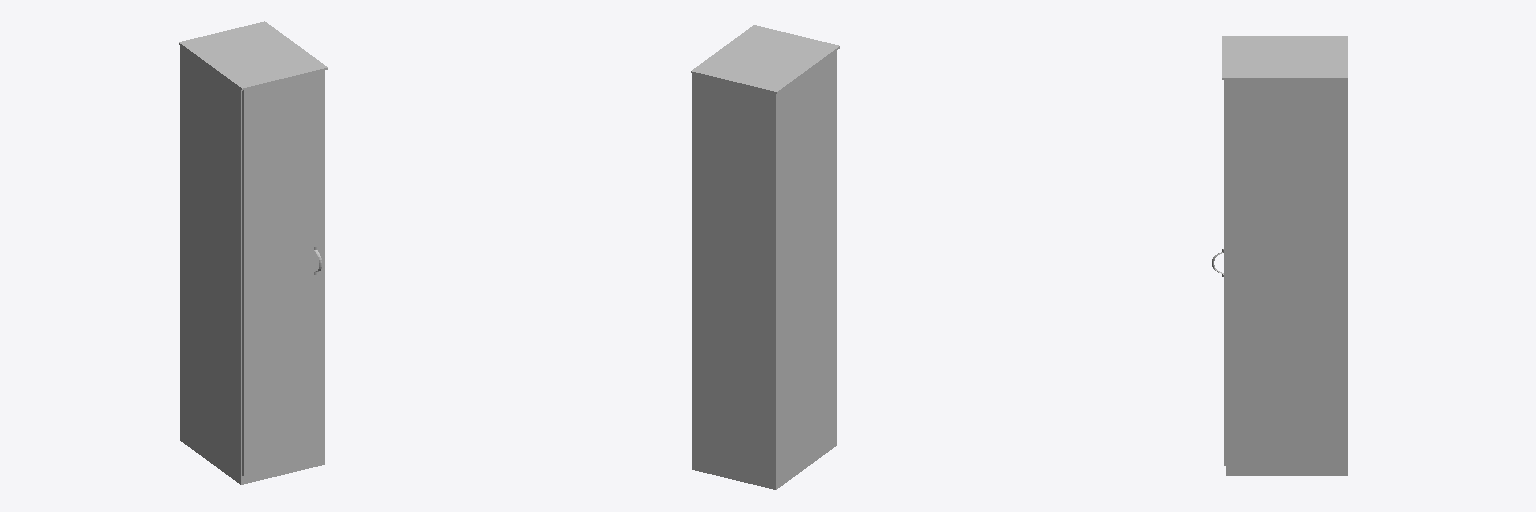
Rendered from closet.obj.
3 renders of one model, left to right at view 1: azimuth 30°, elevation 25°; view 2: azimuth 150°, elevation 25°; view 3: azimuth 270°, elevation 25°, orthographic.
Visible parts, largest first — view 1: initialShadingGroup closet door, initialShadingGroup closet main, initialShadingGroup closet closetTop; view 2: initialShadingGroup closet main, initialShadingGroup closet closetTop; view 3: initialShadingGroup closet main, initialShadingGroup closet closetTop, initialShadingGroup closet door.
Part boxes in pixels (left/top/right/bottom): initialShadingGroup closet door: left=242, top=71, right=324, bottom=475; initialShadingGroup closet main: left=180, top=46, right=324, bottom=484; initialShadingGroup closet closetTop: left=179, top=21, right=327, bottom=90; initialShadingGroup closet main: left=692, top=51, right=836, bottom=489; initialShadingGroup closet closetTop: left=691, top=25, right=839, bottom=93; initialShadingGroup closet main: left=1226, top=80, right=1347, bottom=475; initialShadingGroup closet closetTop: left=1222, top=36, right=1347, bottom=79; initialShadingGroup closet door: left=1224, top=80, right=1225, bottom=465.
Bounding box in the file's own units: 1.23 × 5.44 × 1.68.